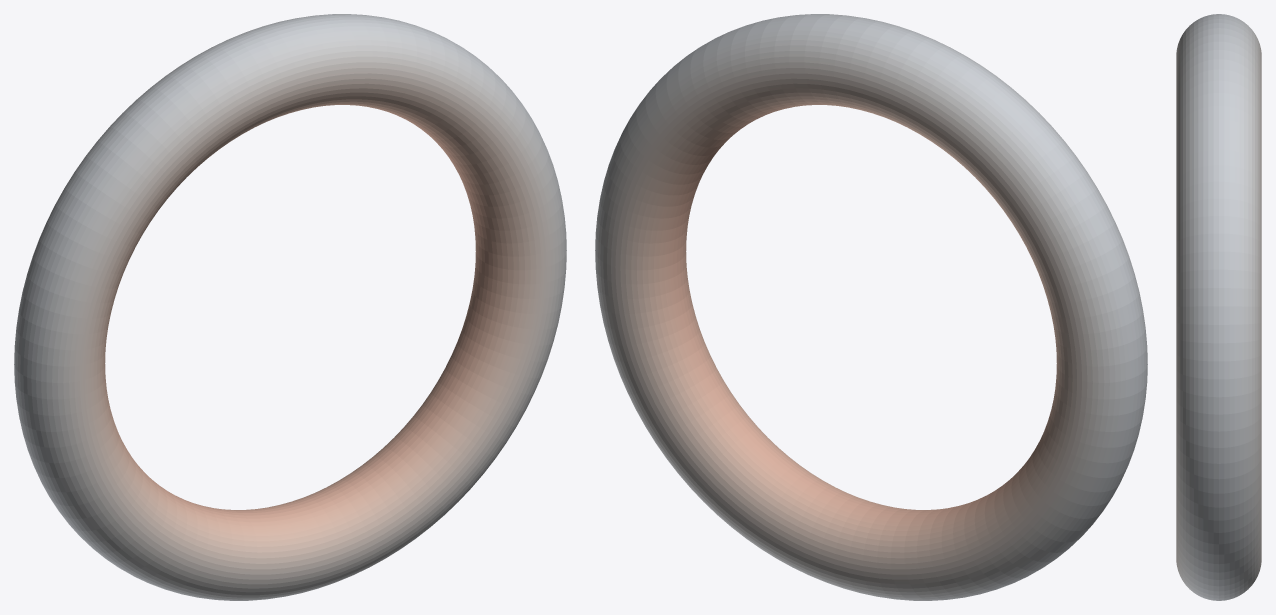
3 views of the same model, side by side, from view 1: azimuth 30°, elevation 25°; view 2: azimuth 150°, elevation 25°; view 3: azimuth 270°, elevation 25° (orthographic). The views are drawn at different scales.
Visible parts, largest first — view 1: world; view 2: world; view 3: world.
Boxes of the visible parts, left/top/right/bottom form: world: left=14, top=14, right=566, bottom=600; world: left=595, top=14, right=1147, bottom=600; world: left=1176, top=14, right=1261, bottom=600.
Size of the model in its own units: 32 by 32 by 4.66.
